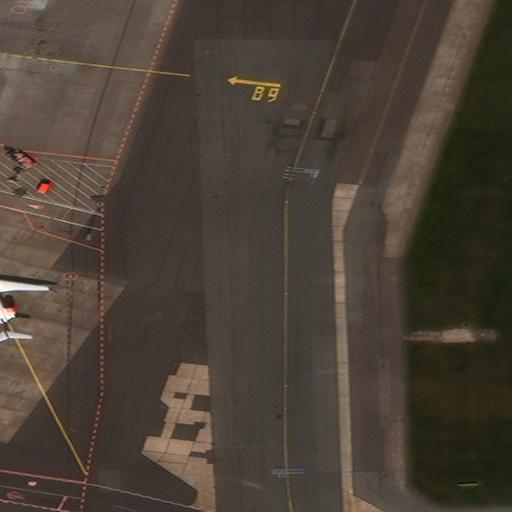Medium Civil Transport: (0, 253, 49, 341)
